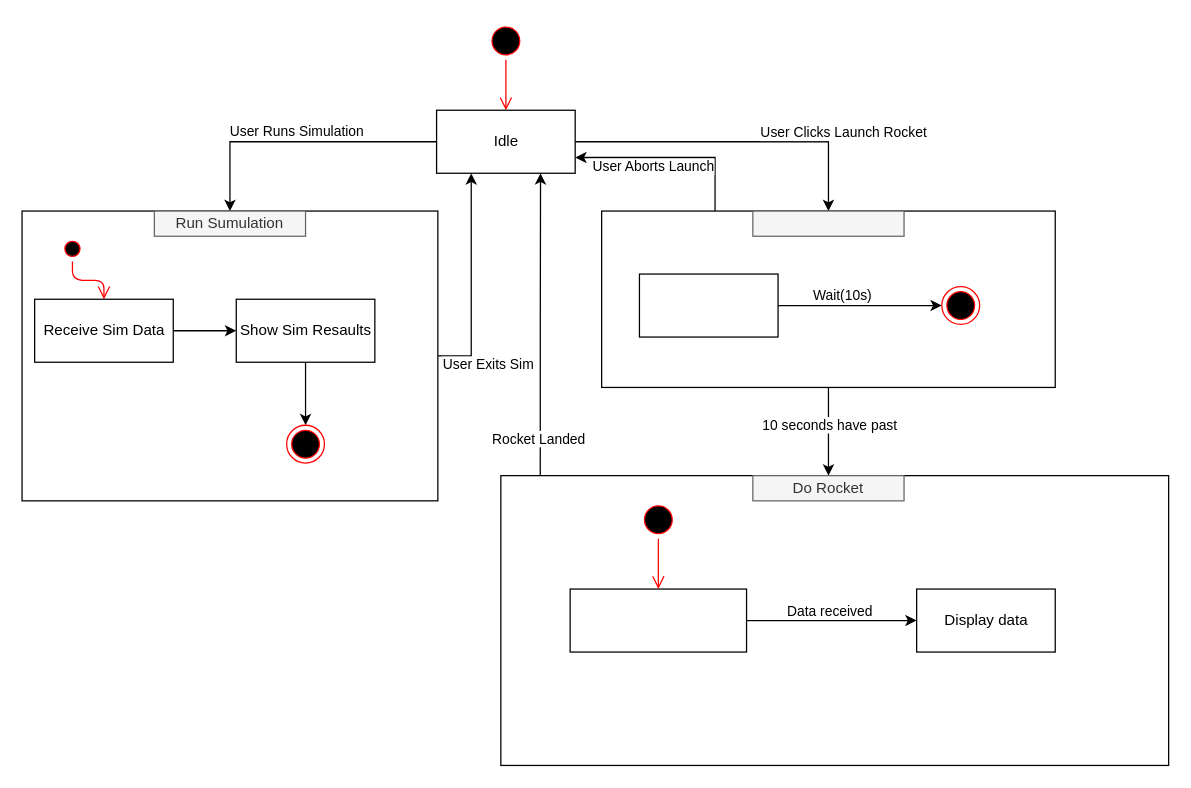
Image size: 1191x788. Some labels were removed from this diagram. The shapes that lost their labels are listed below. From the top down, each one's centre as x and y in pixels, then its label:
the point at 828,223: Prepare Launch
the point at 708,305: Countdown
the point at 658,620: Receive data from rocket
